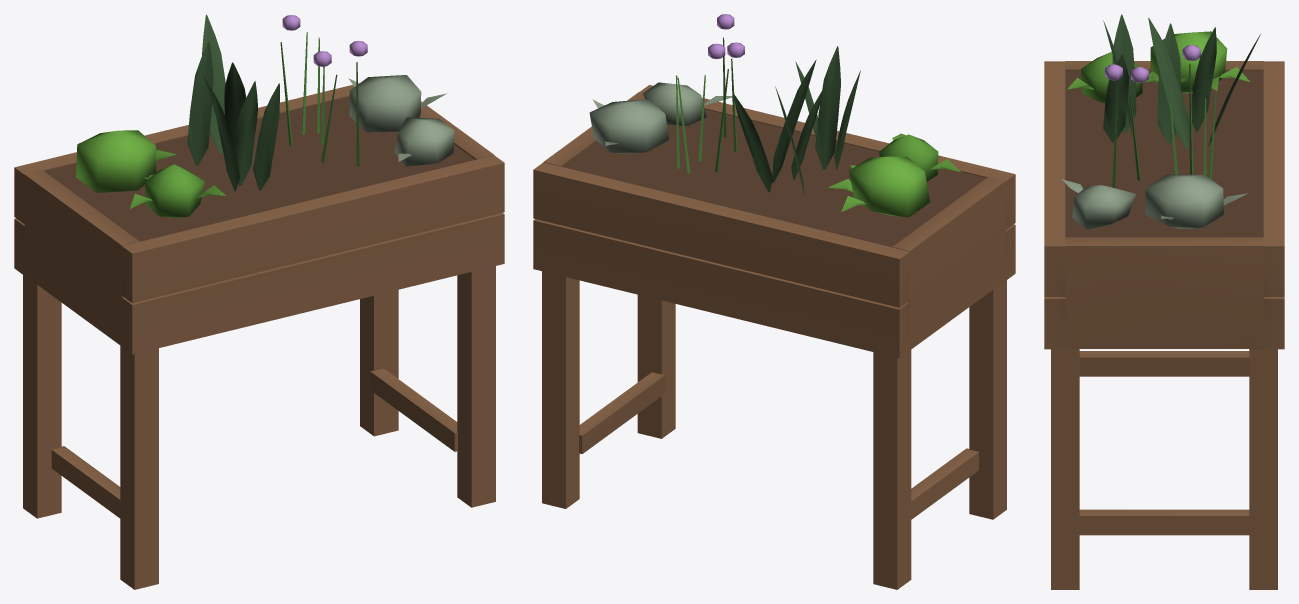
File: herbs.far.glb
The picture shows the model from 3 angles, left to right: view 1: azimuth 30°, elevation 25°; view 2: azimuth 150°, elevation 25°; view 3: azimuth 270°, elevation 25°; orthographic projection. The views are drawn at different scales.
Visible parts, largest first — view 1: herbs; view 2: herbs; view 3: herbs.
Part boxes in pixels (box(x1,y1,x2,y2)): herbs: box(14, 14, 504, 589); herbs: box(533, 14, 1015, 589); herbs: box(1044, 14, 1284, 589).
Bounding box in the file's own units: 0.84 × 1.01 × 0.46.
